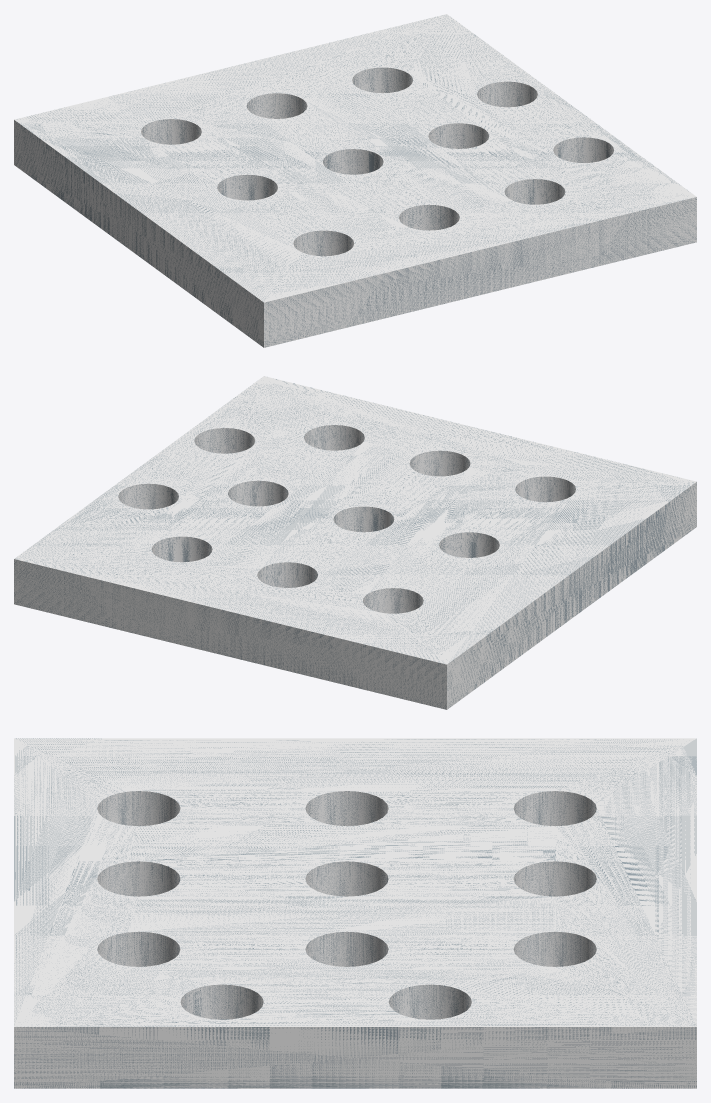
3 views of the same model, one above another, from view 1: azimuth 30°, elevation 25°; view 2: azimuth 150°, elevation 25°; view 3: azimuth 270°, elevation 25° (orthographic). The views are drawn at different scales.
Parts seen in each view (by area): view 1: Model; view 2: Model; view 3: Model.
Part boxes in pixels (box(x1,y1,x2,y2)): Model: box(14, 14, 696, 347); Model: box(14, 376, 696, 709); Model: box(14, 738, 696, 1088).
Bounding box in the file's own units: 5 × 0.5 × 5.
